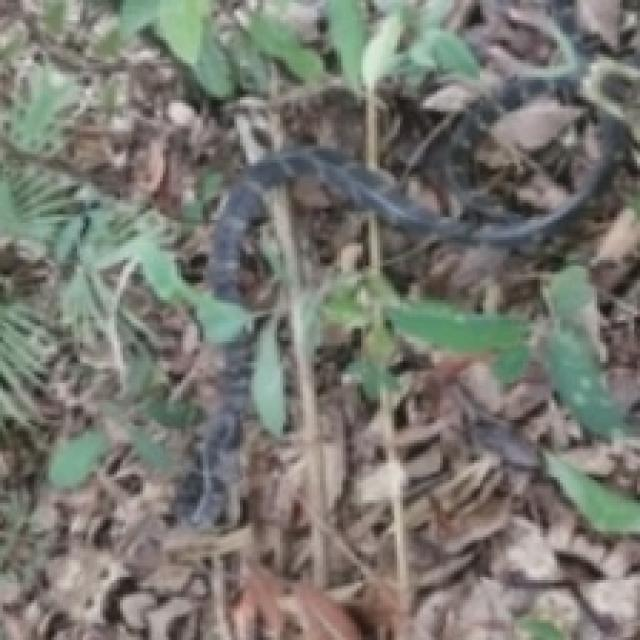dog-toothed cat snake: (208, 121, 624, 302), (181, 332, 252, 528)
